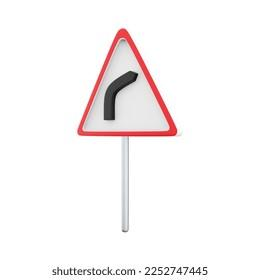Right Hand Curve: (65, 20, 192, 142)
